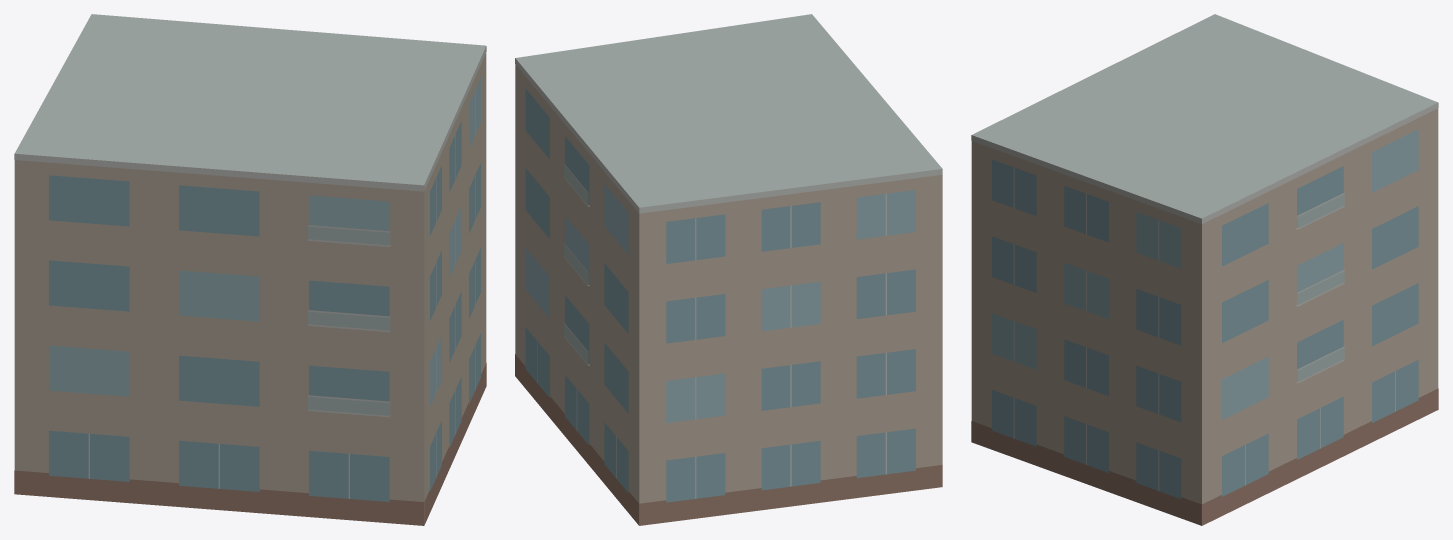
The model's file is survey-upis-32982165.glb.
3 renders of one model, left to right at view 1: azimuth 30°, elevation 25°; view 2: azimuth 150°, elevation 25°; view 3: azimuth 270°, elevation 25°, orthographic. The views are drawn at different scales.
Parts seen in each view (by area): view 1: survey-upis-32982165.tmp; view 2: survey-upis-32982165.tmp; view 3: survey-upis-32982165.tmp.
Boxes of the visible parts, x1,y1,x2,y2 form: survey-upis-32982165.tmp: (14,14,486,525); survey-upis-32982165.tmp: (515,14,942,525); survey-upis-32982165.tmp: (971,14,1438,525).
Bounding box in the file's own units: 19.01 × 13.3 × 18.32.
